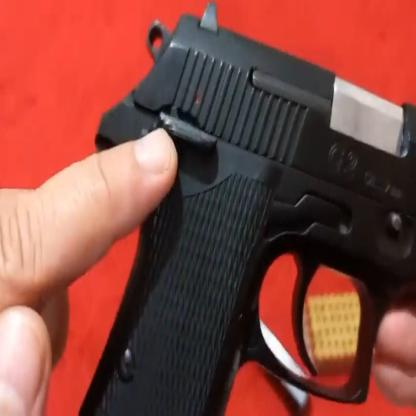handgun: (88, 6, 416, 411)
